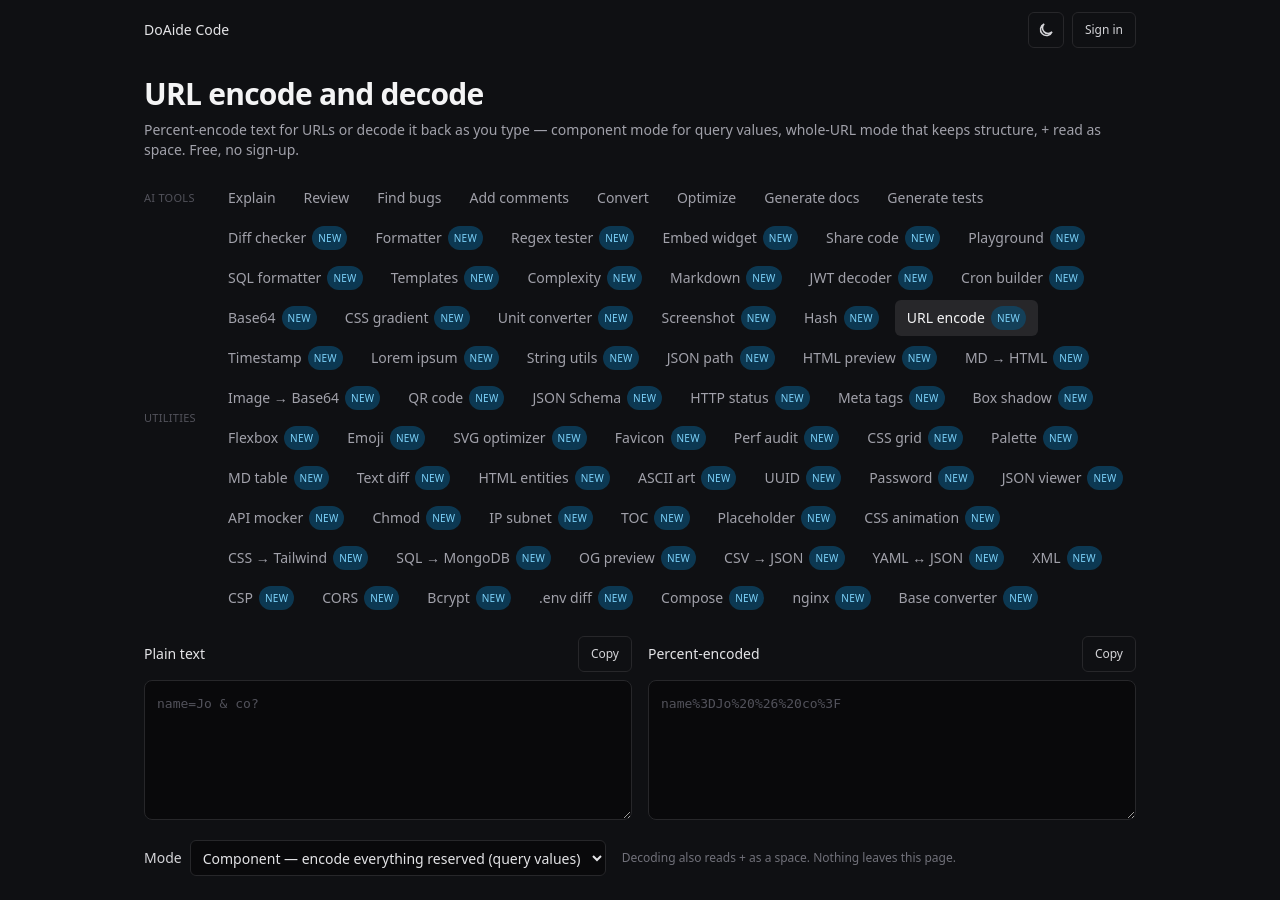
UrlPage › decodes from the encoded pane, reading + as space
The width and height of the screenshot is (1280, 900).
Type "caf%C3%A9+au+lait" into the text box with test id "url-encoded" at x=892, y=750, box left=648, top=680, right=1136, bottom=820
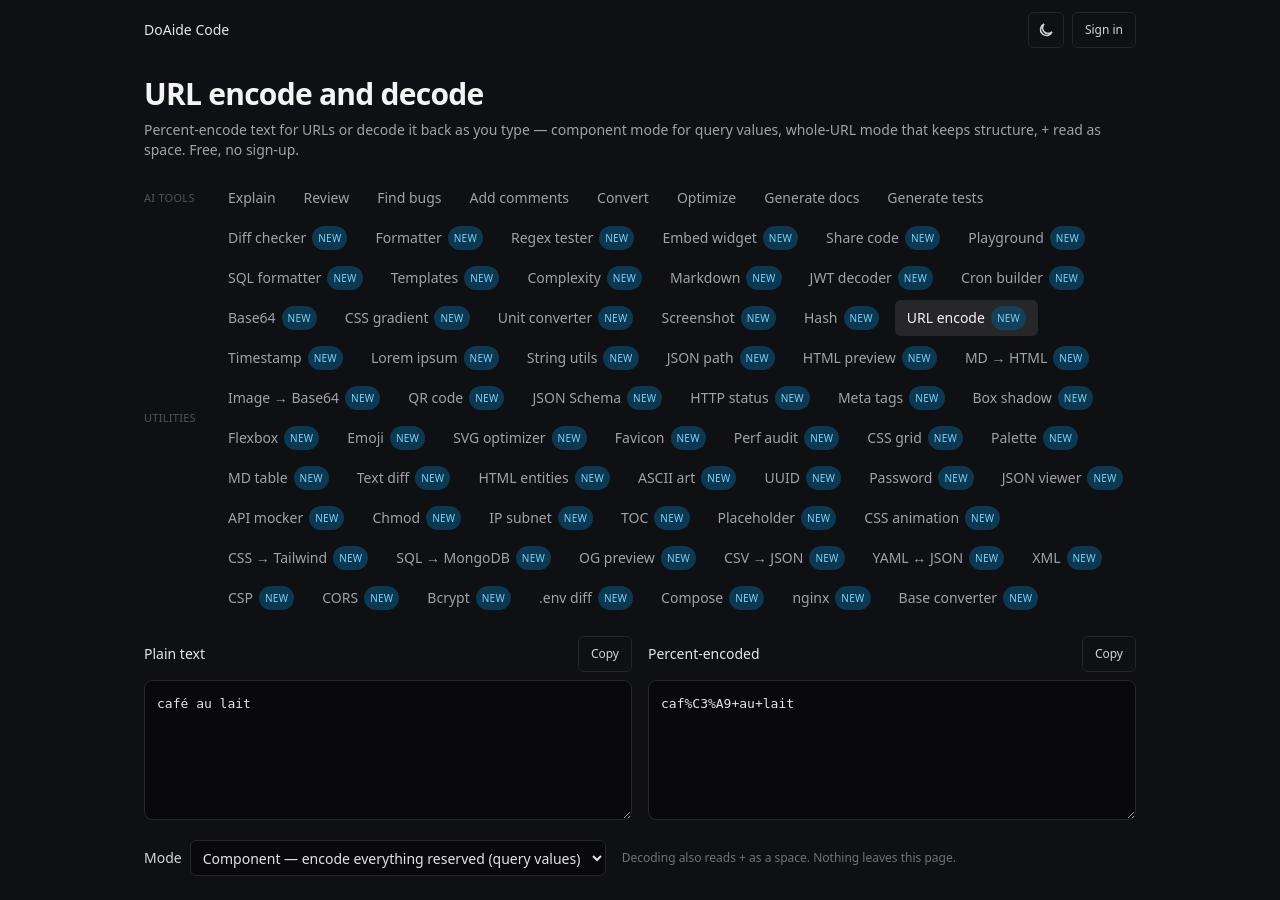
Expected: the text box with test id "url-plain" holds "café au lait", left=144, top=680, right=632, bottom=820
